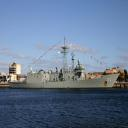Fragata: (9, 35, 122, 89)
